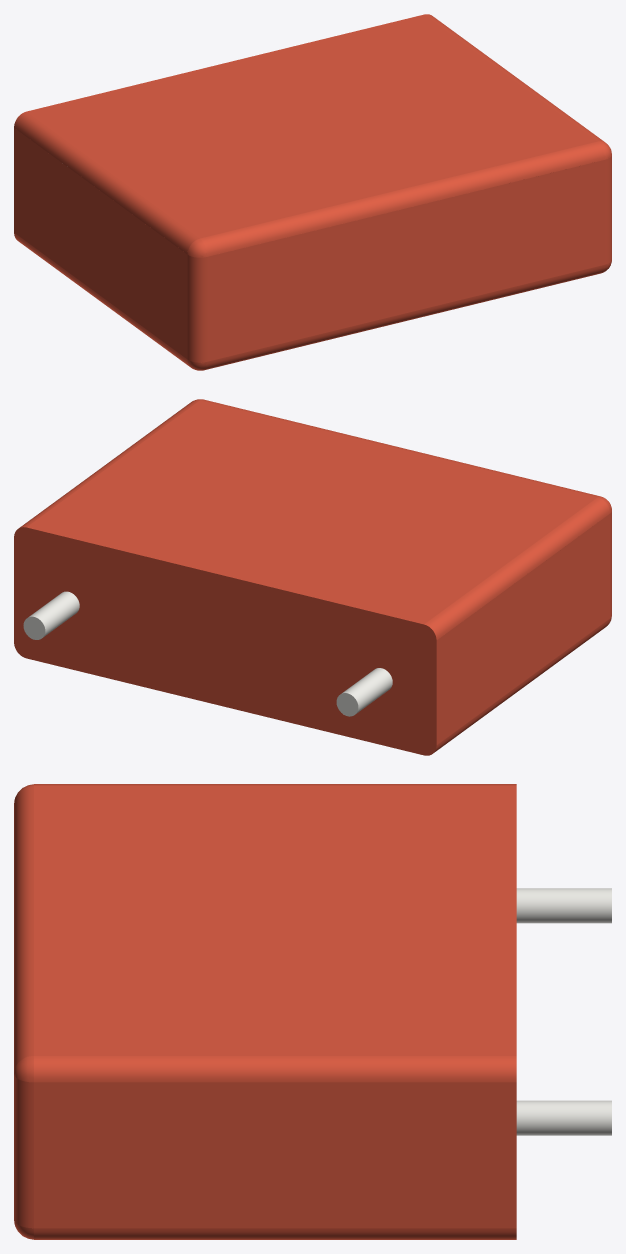
The model's file is C_Rect_L13.5mm_W4.0mm_P10.00mm_FKS3_FKP3_MKS4.glb.
The picture shows the model from 3 angles, top to bottom: view 1: azimuth 30°, elevation 25°; view 2: azimuth 150°, elevation 25°; view 3: azimuth 270°, elevation 25°; orthographic projection. The views are drawn at different scales.
Visible parts, largest first — view 1: Shape_IndexedFaceSet.009, Shape_IndexedFaceSet.008, Shape_IndexedFaceSet, Shape_IndexedFaceSet.016, Shape_IndexedFaceSet.004, Shape_IndexedFaceSet.015, Shape_IndexedFaceSet.002, Shape_IndexedFaceSet.001, Shape_IndexedFaceSet.011, Shape_IndexedFaceSet.017; view 2: Shape_IndexedFaceSet.009, Shape_IndexedFaceSet.003, Shape_IndexedFaceSet, Shape_IndexedFaceSet.004, Shape_IndexedFaceSet.014, Shape_IndexedFaceSet.013, Shape_IndexedFaceSet.001, Shape_IndexedFaceSet.016, Shape_IndexedFaceSet.011; view 3: Shape_IndexedFaceSet.009, Shape_IndexedFaceSet.012, Shape_IndexedFaceSet.011, Shape_IndexedFaceSet.010, Shape_IndexedFaceSet.016, Shape_IndexedFaceSet.013, Shape_IndexedFaceSet.014, Shape_IndexedFaceSet.017, Shape_IndexedFaceSet.004.
Part boxes in pixels (x1,y1,x2,y2): Shape_IndexedFaceSet.009: (27, 14, 597, 238); Shape_IndexedFaceSet.008: (207, 160, 604, 361); Shape_IndexedFaceSet: (14, 128, 187, 359); Shape_IndexedFaceSet.016: (200, 141, 604, 256); Shape_IndexedFaceSet.004: (14, 111, 199, 254); Shape_IndexedFaceSet.015: (204, 265, 604, 370); Shape_IndexedFaceSet.002: (187, 255, 207, 362); Shape_IndexedFaceSet.001: (14, 233, 189, 366); Shape_IndexedFaceSet.011: (424, 14, 604, 141); Shape_IndexedFaceSet.017: (605, 156, 611, 264); Shape_IndexedFaceSet.009: (27, 400, 597, 624); Shape_IndexedFaceSet.003: (14, 527, 436, 755); Shape_IndexedFaceSet: (436, 514, 609, 744); Shape_IndexedFaceSet.004: (424, 497, 609, 639); Shape_IndexedFaceSet.014: (28, 591, 79, 637); Shape_IndexedFaceSet.013: (342, 668, 392, 713); Shape_IndexedFaceSet.001: (434, 619, 609, 752); Shape_IndexedFaceSet.016: (200, 399, 599, 497); Shape_IndexedFaceSet.011: (19, 400, 199, 527); Shape_IndexedFaceSet.009: (34, 786, 516, 1055); Shape_IndexedFaceSet.012: (34, 1082, 516, 1228); Shape_IndexedFaceSet.011: (34, 1056, 516, 1082); Shape_IndexedFaceSet.010: (34, 1228, 516, 1239); Shape_IndexedFaceSet.016: (14, 786, 33, 1072); Shape_IndexedFaceSet.013: (516, 888, 611, 923); Shape_IndexedFaceSet.014: (516, 1100, 611, 1135); Shape_IndexedFaceSet.017: (14, 1075, 33, 1228); Shape_IndexedFaceSet.004: (34, 784, 516, 785).
Bounding box in the file's own units: 5.31 × 1.57 × 4.69.
